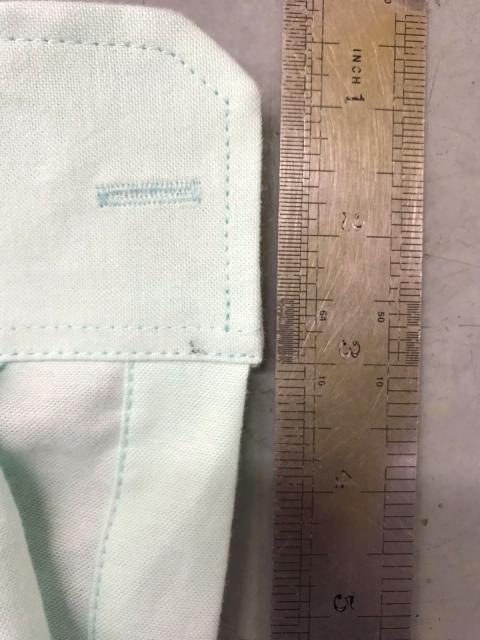Dirty_mark: (186, 336, 211, 356)
